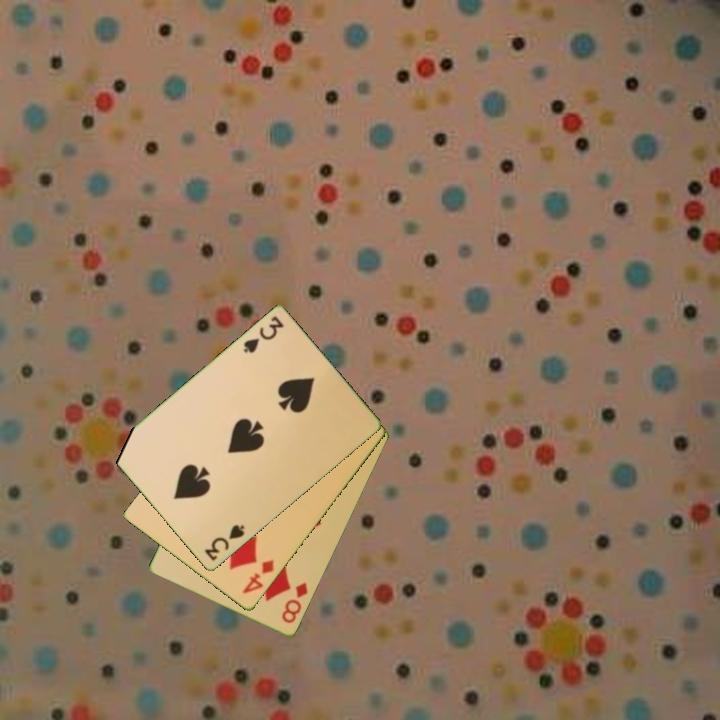3s: (239, 313, 287, 356), (201, 521, 248, 564)
4d: (239, 556, 277, 597)
8d: (278, 579, 311, 627)
